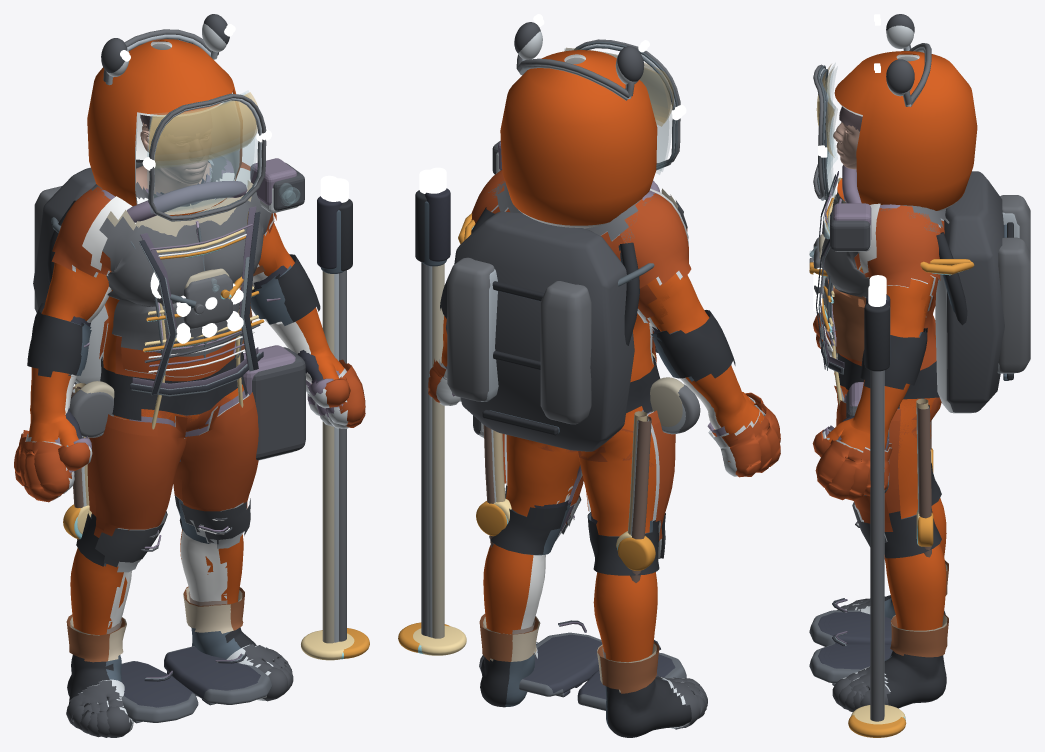
File: rieva-missionwear.glb
3 views of the same model, side by side, from view 1: azimuth 30°, elevation 25°; view 2: azimuth 150°, elevation 25°; view 3: azimuth 270°, elevation 25° (orthographic). The views are drawn at different scales.
Parts seen in each view (by area): view 1: MALTE_faceted_pressure_shell, MALTE_adaptive_body_contoured_torso_panel, MALTE_contour_right_body_contoured_thigh_panel, MALTE_contour_left_body_contoured_thigh_panel, MALTE_compound_curved_primary_visor, MALTE_retractable_sun_visor, MAX_compound_curved_primary_visor, MALTE_sample_container, MAX_retractable_sun_visor, BASTIAN_staff_shaft, MALTE_flexible_waist_transition, MALTE_right_lower_leg_anatomical (+58 smaller); view 2: MALTE_integrated_life_support_shell, MALTE_faceted_pressure_shell, MALTE_left_faceted_service_canister, MALTE_right_faceted_service_canister, MALTE_right_upper_leg_anatomical, MALTE_right_lower_leg_anatomical, MALTE_left_upper_leg_anatomical, MALTE_right_contoured_scye_bearing, BASTIAN_staff_shaft, MALTE_left_lower_leg_anatomical, MALTE_right_foot_last, MALTE_right_articulated_elbow_bellows (+41 smaller); view 3: MALTE_faceted_pressure_shell, MALTE_integrated_life_support_shell, MALTE_staff_shaft, MALTE_left_contoured_scye_bearing, MALTE_left_lower_leg_anatomical, MALTE_right_faceted_service_canister, MALTE_contour_left_body_contoured_thigh_panel, MALTE_left_upper_leg_anatomical, MALTE_left_foot_last, MALTE_left_articulated_elbow_bellows, MALTE_body_contoured_asymmetric_geology_pocket, MALTE_left_upper_arm_anatomical (+36 smaller).
Boxes of the visible parts, x1,y1,x2,y2 form: MALTE_faceted_pressure_shell: (87, 39, 242, 215); MALTE_adaptive_body_contoured_torso_panel: (99, 185, 271, 356); MALTE_contour_right_body_contoured_thigh_panel: (14, 423, 188, 530); MALTE_contour_left_body_contoured_thigh_panel: (174, 369, 365, 509); MALTE_compound_curved_primary_visor: (147, 90, 257, 212); MALTE_retractable_sun_visor: (148, 92, 257, 166); MAX_compound_curved_primary_visor: (148, 93, 254, 213); MALTE_sample_container: (252, 347, 305, 459); MAX_retractable_sun_visor: (149, 95, 255, 168); BASTIAN_staff_shaft: (322, 271, 334, 643); MALTE_flexible_waist_transition: (100, 352, 247, 420); MALTE_right_lower_leg_anatomical: (70, 548, 127, 635); MALTE_integrated_life_support_shell: (445, 211, 634, 451); MALTE_faceted_pressure_shell: (500, 50, 657, 225); MALTE_left_faceted_service_canister: (540, 281, 591, 424); MALTE_right_faceted_service_canister: (447, 257, 494, 401); MALTE_right_upper_leg_anatomical: (578, 392, 764, 536); MALTE_right_lower_leg_anatomical: (593, 572, 657, 662); MALTE_left_upper_leg_anatomical: (442, 344, 580, 516); MALTE_right_contoured_scye_bearing: (615, 193, 691, 288); BASTIAN_staff_shaft: (432, 264, 444, 638); MALTE_left_lower_leg_anatomical: (483, 544, 533, 634); MALTE_right_foot_last: (607, 678, 691, 737); MALTE_right_articulated_elbow_bellows: (653, 310, 735, 381); MALTE_faceted_pressure_shell: (834, 51, 977, 210); MALTE_integrated_life_support_shell: (944, 171, 1004, 412); MALTE_staff_shaft: (870, 370, 884, 721); MALTE_left_contoured_scye_bearing: (865, 205, 940, 287); MALTE_left_lower_leg_anatomical: (884, 544, 946, 630); MALTE_right_faceted_service_canister: (998, 237, 1030, 372); MALTE_contour_left_body_contoured_thigh_panel: (815, 411, 900, 523); MALTE_left_upper_leg_anatomical: (826, 385, 940, 518); MALTE_left_foot_last: (884, 651, 946, 708); MALTE_left_articulated_elbow_bellows: (860, 328, 927, 389); MALTE_body_contoured_asymmetric_geology_pocket: (827, 279, 865, 361); MALTE_left_upper_arm_anatomical: (886, 277, 933, 337).
Size of the model in its own units: 1.04 by 1.87 by 0.5909.
